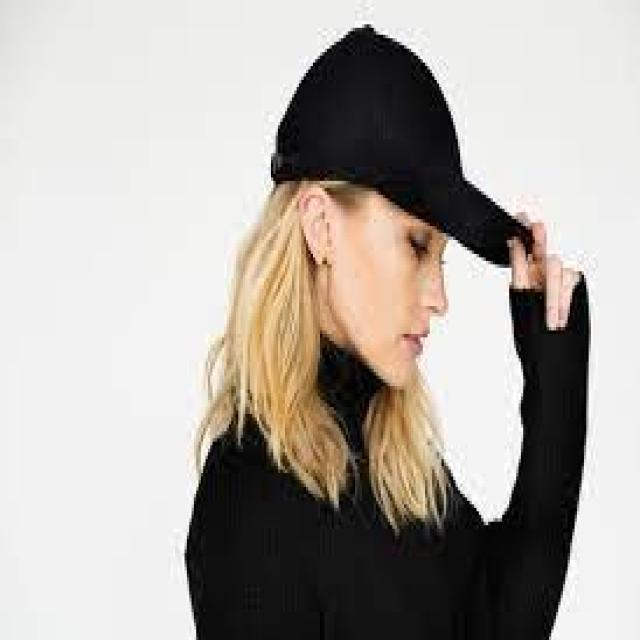Nonhelmet: (261, 10, 541, 308)
